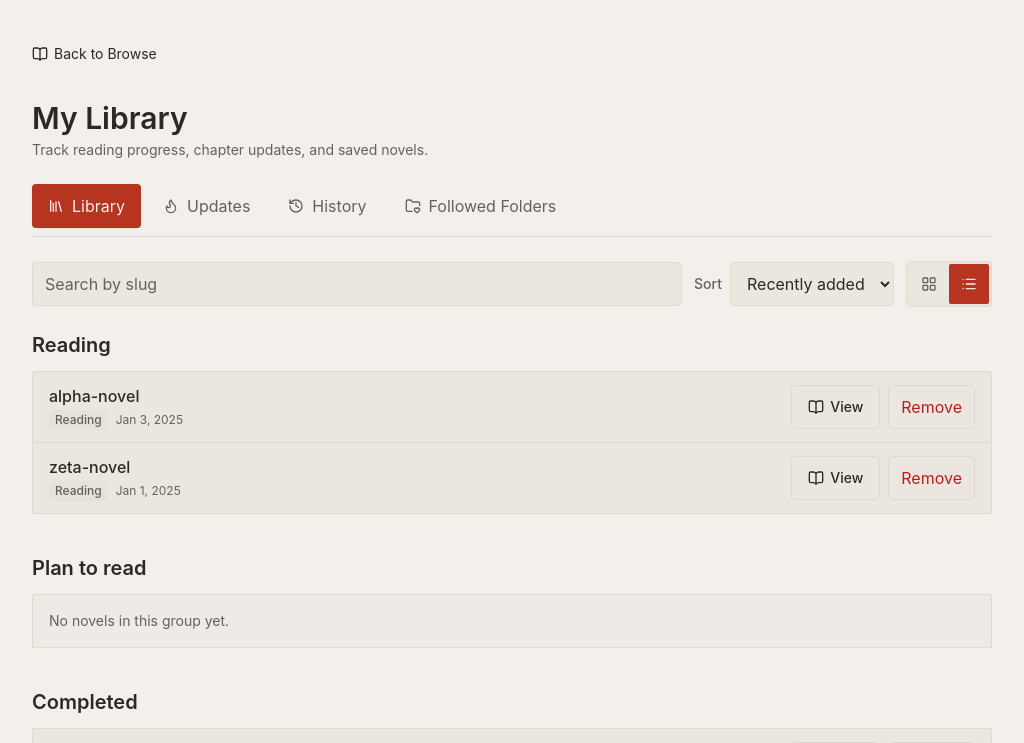
Scenario: Library page groups › searches by slug and empties non-matching groups
The image size is (1024, 743).
Type "alpha" into the search field labelled "Search by slug" at (357, 284), box [32,262,682,306]
(page scrolled)
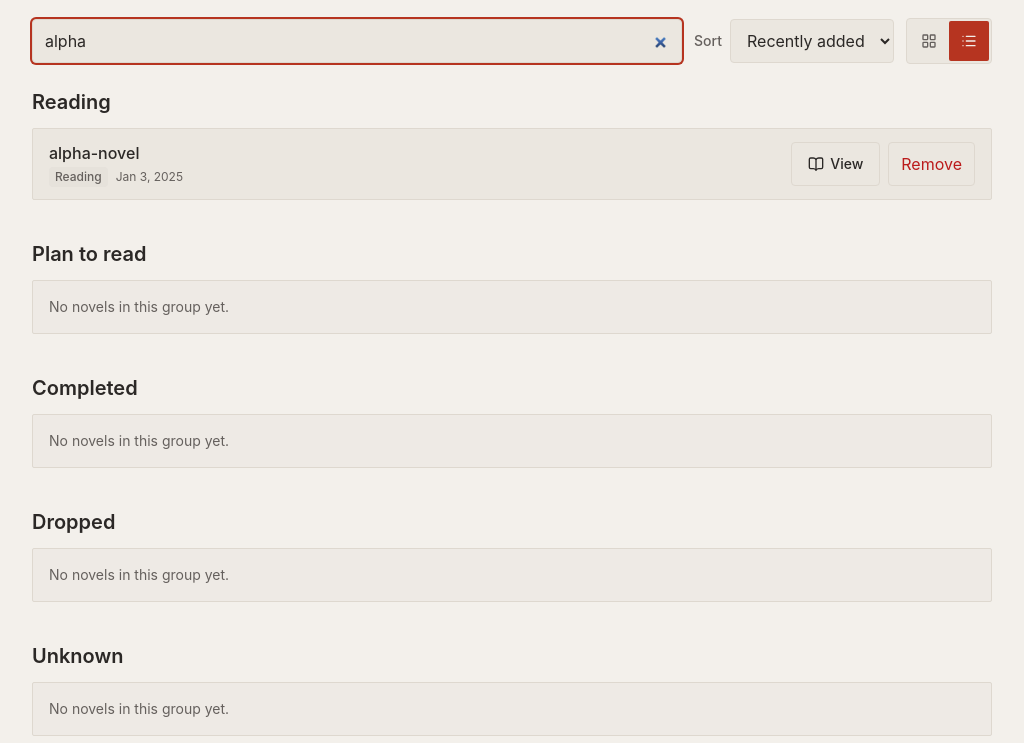
Expected: no links "zeta-novel" are shown
Expected: the text "No novels in this group yet." below "Completed" is shown, [49,432,229,449]
Expected: the text "No novels in this group yet." below "Dropped" is shown, [49,566,229,583]
